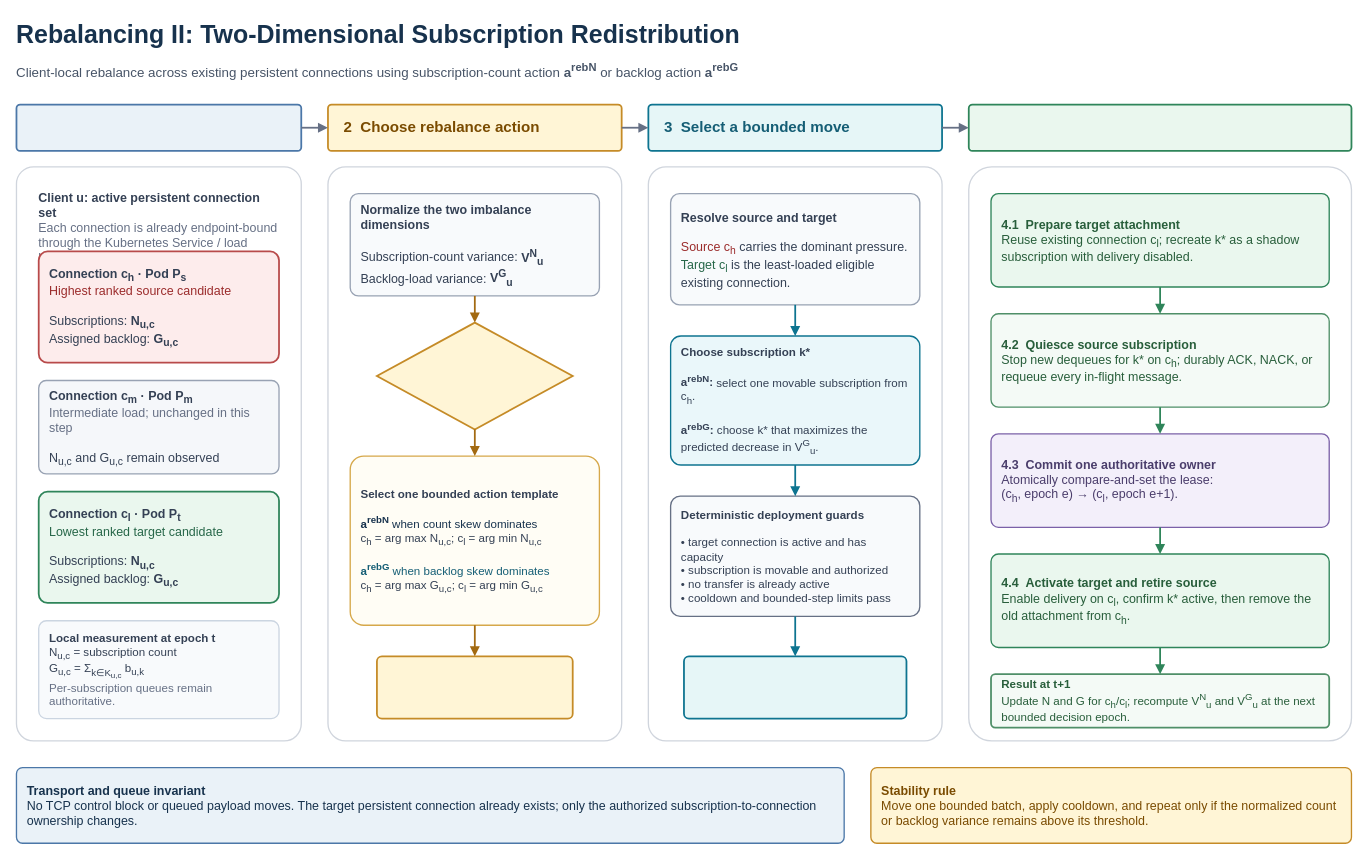
The diagram is 1367 pixels wide and 859 high, and some of its shapes have lost their labels. The centre of each missing label's shape, as x and y in pixels:
"1 Observe active connections" goes at point (158, 127).
"4 Execute fenced reassociation" goes at point (1159, 127).
"Action request (c h , c l , action mode)" goes at point (474, 687).
"Bounded handoff plan (c h , c l , k*, transfer ID τ)" goes at point (795, 687).
"Rebalance? V N u > γ N or V G u > γ G" goes at point (474, 375).
